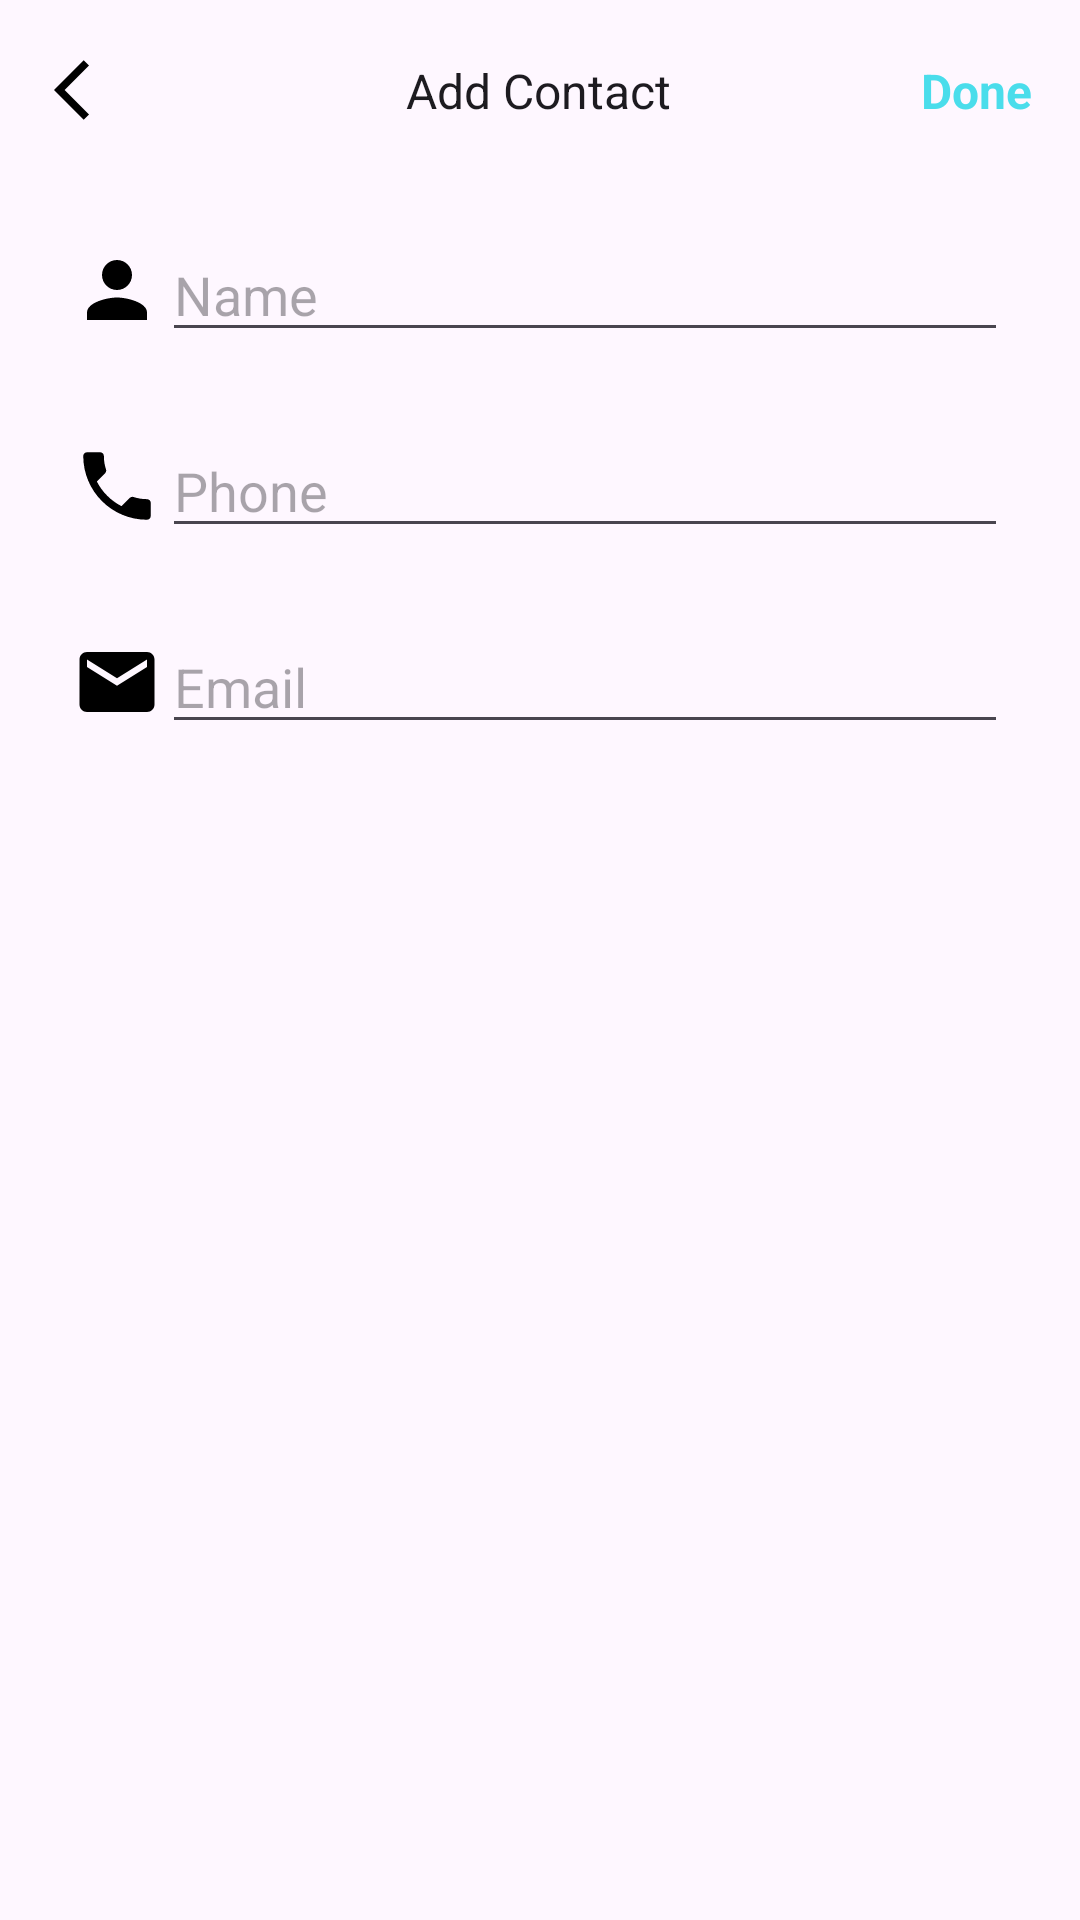

Where to tap for icons on this 1080 x 1920 app screen, as (x,y):
Back: (71,90)
person: (117,290)
